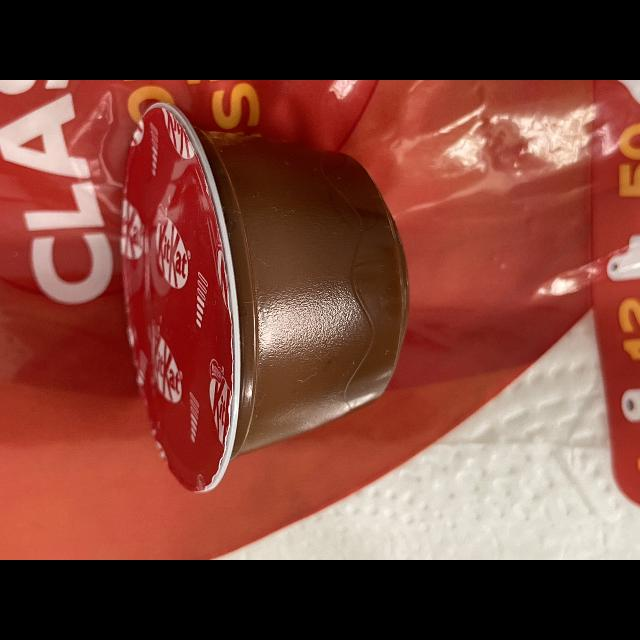intact_capsule: (96, 94, 418, 514)
